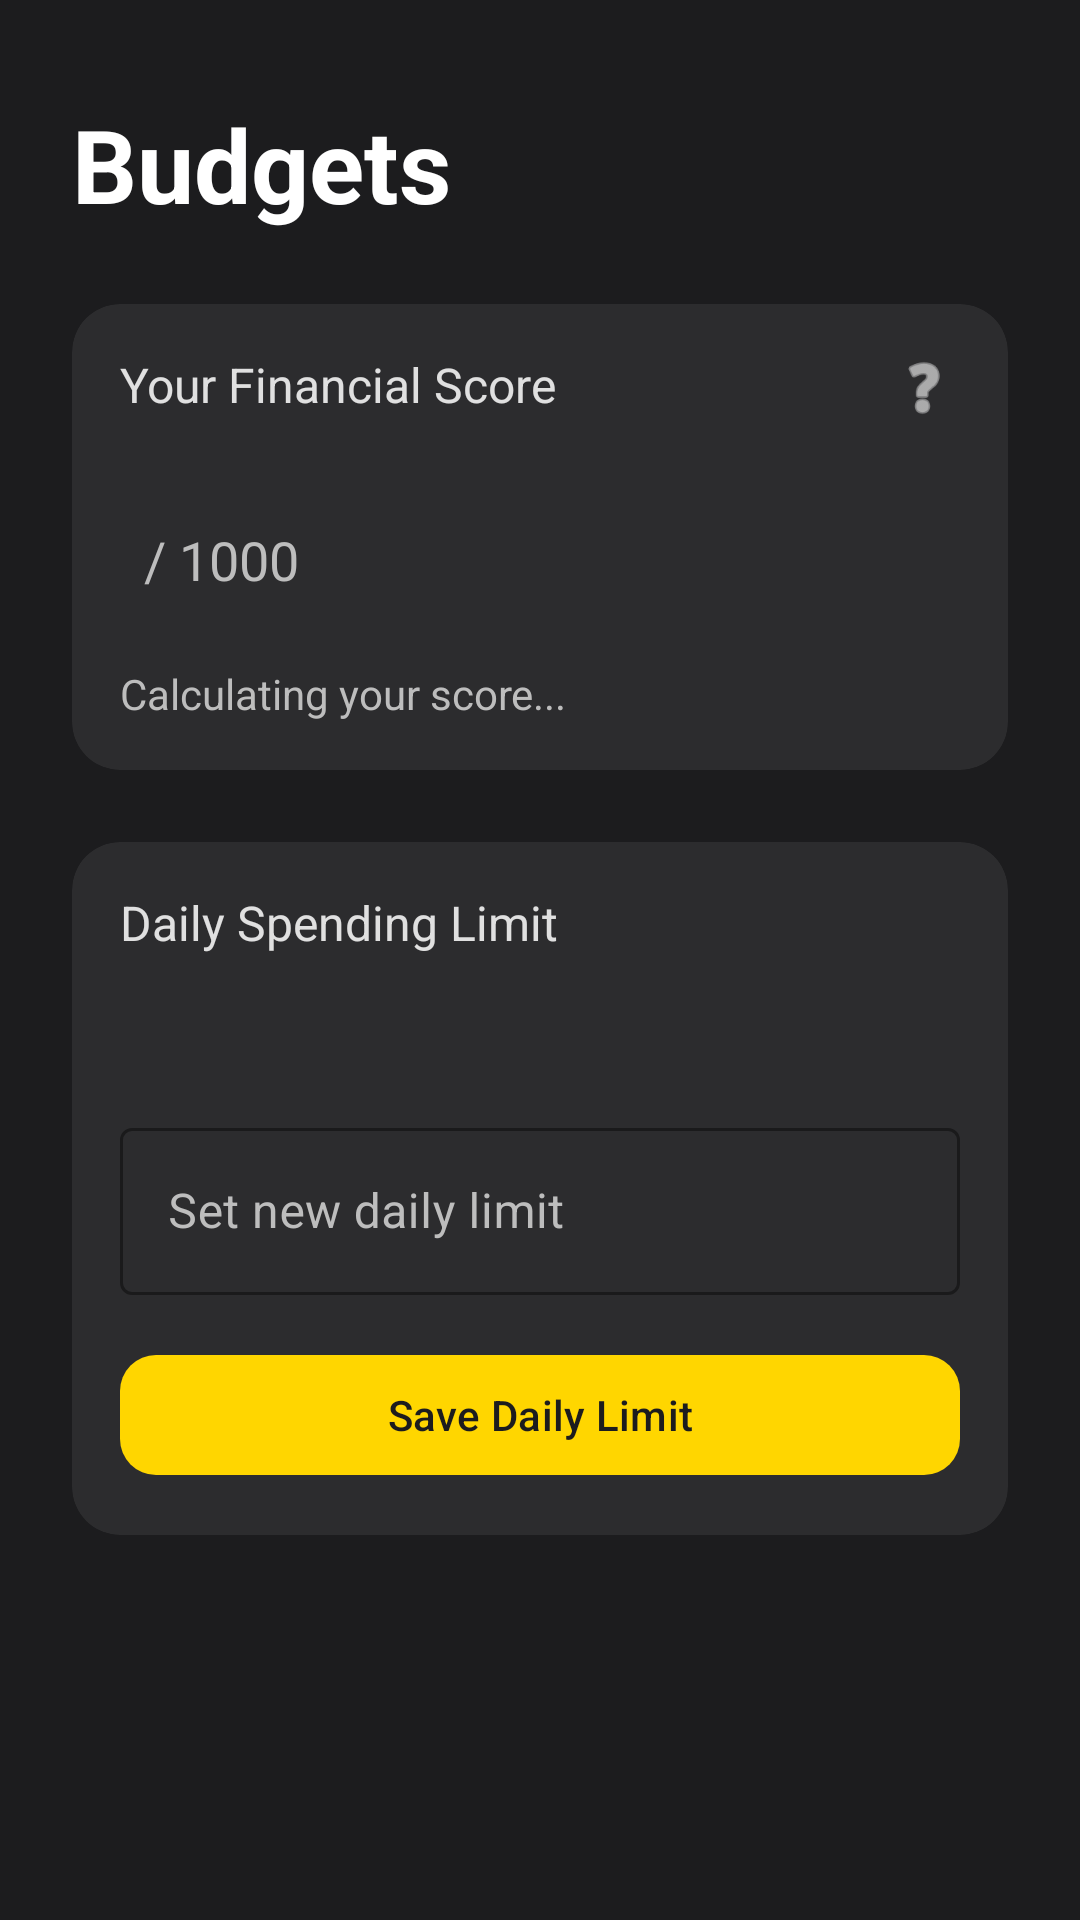

Named icons in this screenshot (1080 × 1920) and their centers, (x=x, y=y):
Information about the financial score: (x=924, y=388)
